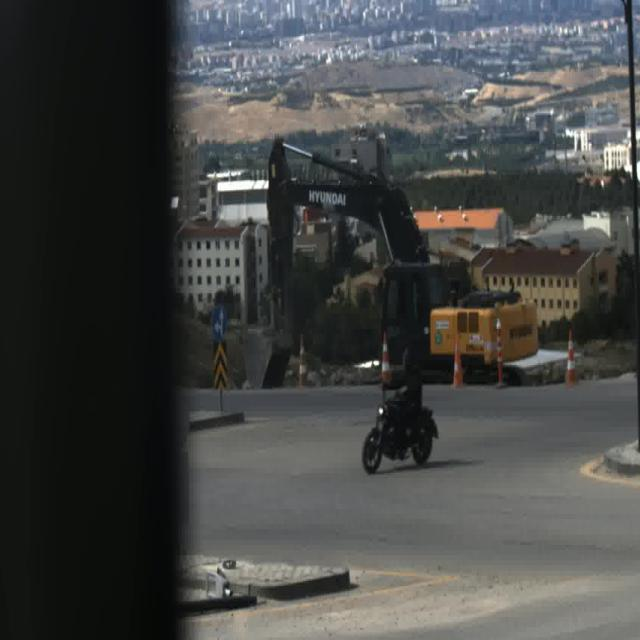Motorcycle: (363, 350, 440, 468)
